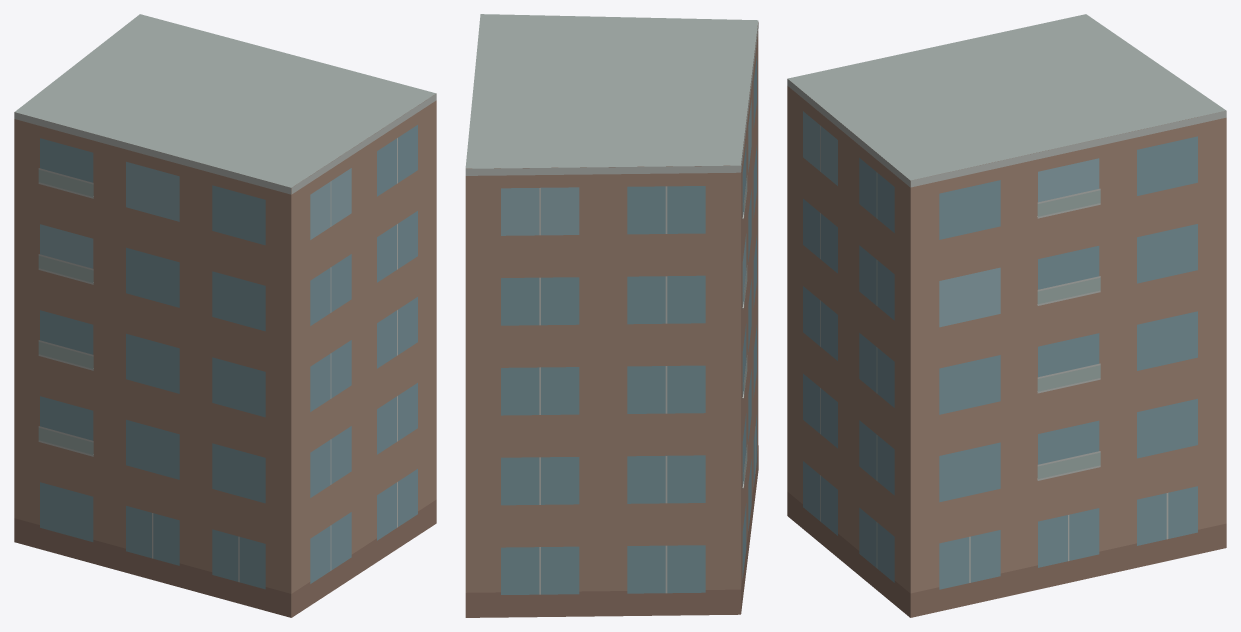
The model's file is survey-upis-32900794.glb.
3 views of the same model, side by side, from view 1: azimuth 30°, elevation 25°; view 2: azimuth 150°, elevation 25°; view 3: azimuth 270°, elevation 25° (orthographic). The views are drawn at different scales.
Visible parts, largest first — view 1: survey-upis-32900794.tmp; view 2: survey-upis-32900794.tmp; view 3: survey-upis-32900794.tmp.
Part boxes in pixels (x1,y1,x2,y2): survey-upis-32900794.tmp: [14, 14, 436, 617]; survey-upis-32900794.tmp: [465, 14, 758, 617]; survey-upis-32900794.tmp: [787, 14, 1226, 617].
Bounding box in the file's own units: 12.47 × 15.25 × 13.89.
